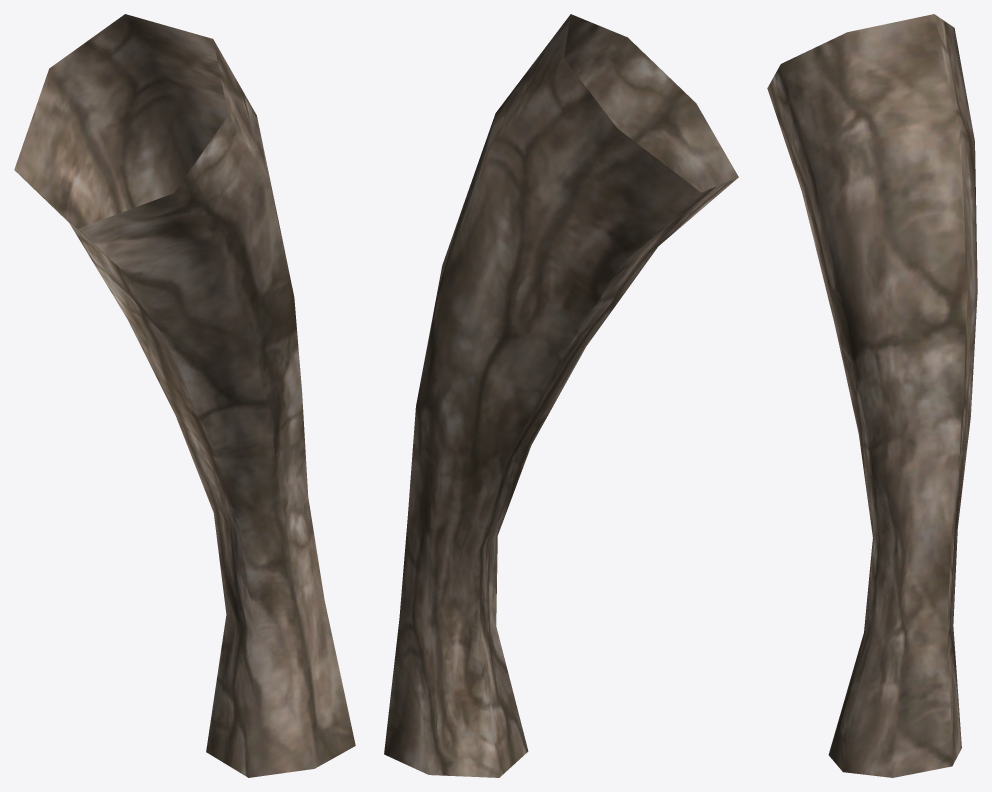
Rendered from EKH_JAIL_PS_JA_GR_CYLINDER22.fbx.
3 renders of one model, left to right at view 1: azimuth 30°, elevation 25°; view 2: azimuth 150°, elevation 25°; view 3: azimuth 270°, elevation 25°, orthographic. The views are drawn at different scales.
Parts seen in each view (by area): view 1: EKH_JAIL_PS_JA_GR_CYLINDER22; view 2: EKH_JAIL_PS_JA_GR_CYLINDER22; view 3: EKH_JAIL_PS_JA_GR_CYLINDER22.
Part boxes in pixels (box(x1,y1,x2,y2)): EKH_JAIL_PS_JA_GR_CYLINDER22: box(14, 14, 355, 777); EKH_JAIL_PS_JA_GR_CYLINDER22: box(384, 14, 738, 777); EKH_JAIL_PS_JA_GR_CYLINDER22: box(767, 14, 977, 777).
Bounding box in the file's own units: 37172 × 82126 × 22758.
1 material, 1 textured.
